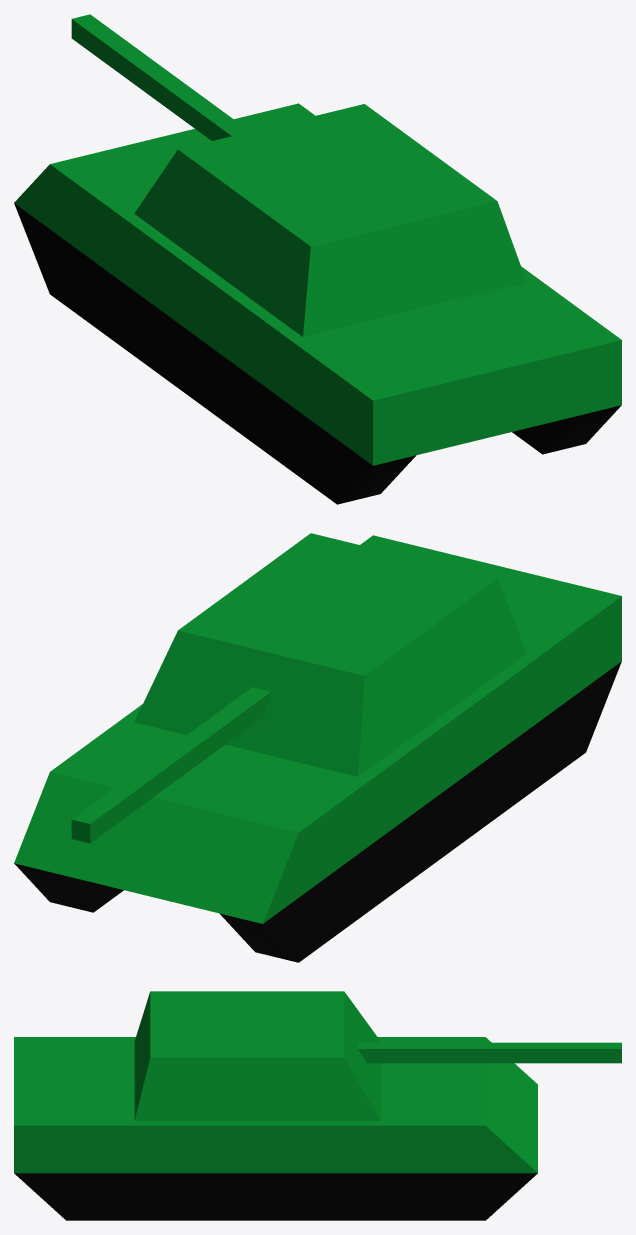
3 views of the same model, one above another, from view 1: azimuth 30°, elevation 25°; view 2: azimuth 150°, elevation 25°; view 3: azimuth 270°, elevation 25° (orthographic). The views are drawn at different scales.
Visible parts, largest first — view 1: obj3; view 2: obj3; view 3: obj3.
Part boxes in pixels (x1,y1,x2,y2): obj3: (14,14,621,504); obj3: (14,533,621,962); obj3: (14,991,621,1220).
Bounding box in the file's own units: 4 × 3.2 × 11.6.
